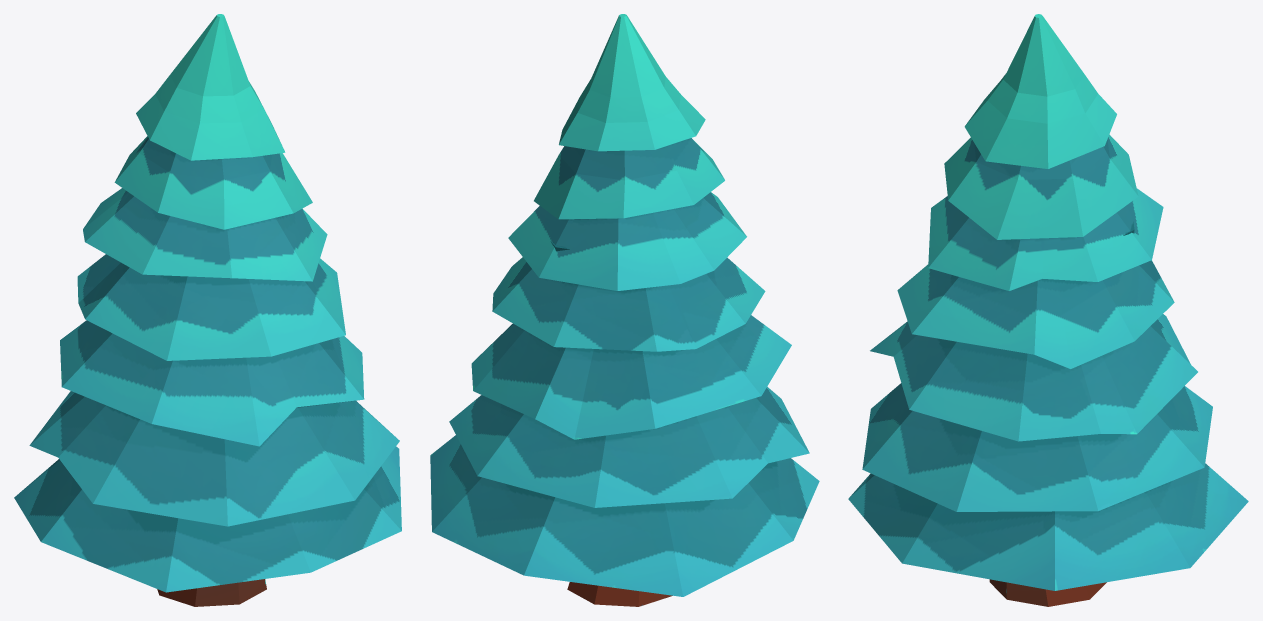
The model's file is Large Coniferous Tree1.fbx.
3 renders of one model, left to right at view 1: azimuth 30°, elevation 25°; view 2: azimuth 150°, elevation 25°; view 3: azimuth 270°, elevation 25°, orthographic.
Parts seen in each view (by area): view 1: Large Coniferous; view 2: Large Coniferous; view 3: Large Coniferous.
Part boxes in pixels (left/top/right/bottom): Large Coniferous: left=14, top=14, right=401, bottom=606; Large Coniferous: left=430, top=14, right=819, bottom=606; Large Coniferous: left=848, top=14, right=1248, bottom=606.
Bounding box in the file's own units: 959 × 1439 × 918.
